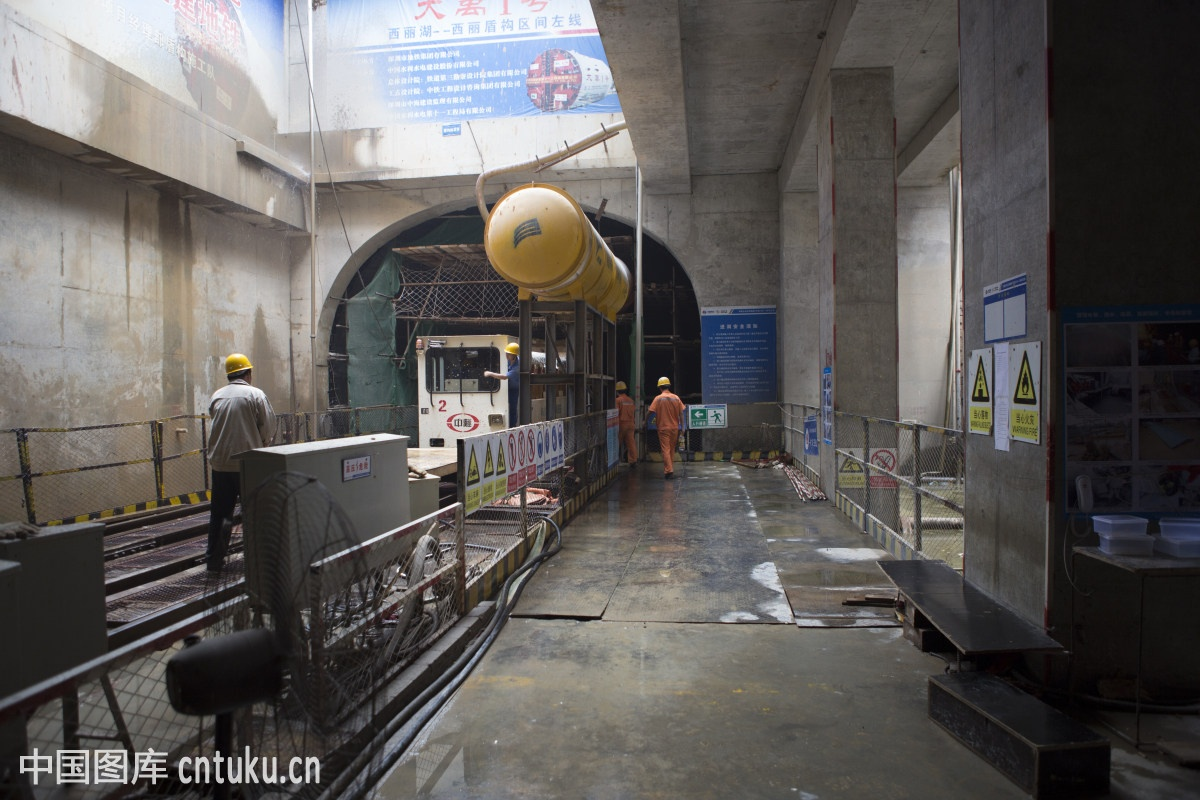yellow: (222, 353, 257, 388), (503, 341, 520, 360), (657, 376, 673, 392), (615, 380, 629, 396)
